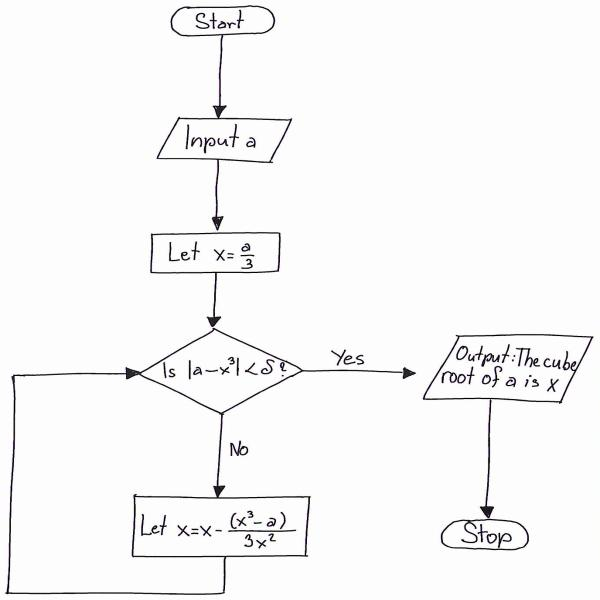arrow: (12, 360, 148, 598), (474, 398, 506, 518), (304, 362, 422, 392), (210, 412, 228, 509), (204, 156, 228, 228), (212, 37, 231, 118), (202, 273, 226, 329)
data: (421, 333, 591, 402), (157, 120, 292, 159)
decision: (140, 326, 304, 416)
process: (134, 492, 311, 552), (144, 233, 281, 274)
terminator: (169, 3, 278, 40), (439, 515, 534, 550)
text: (139, 505, 292, 548), (444, 342, 568, 392), (157, 236, 263, 269), (164, 357, 286, 384), (186, 128, 259, 150), (194, 7, 258, 29), (460, 525, 514, 545), (230, 441, 254, 462)
